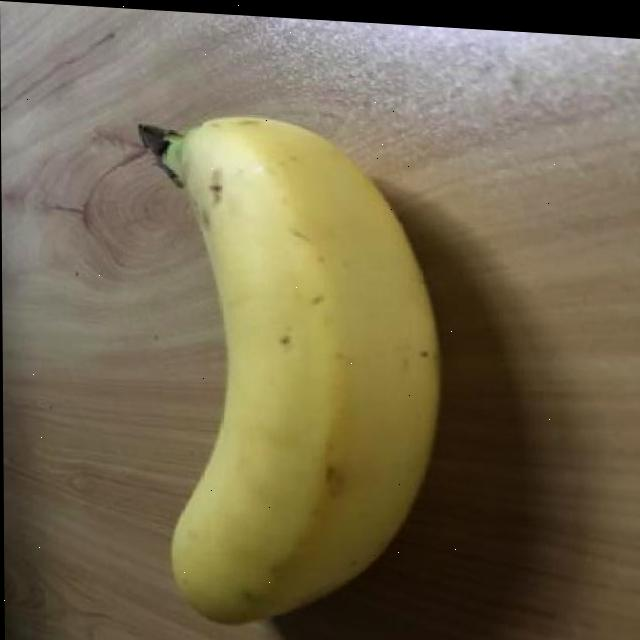banana: (126, 98, 453, 639)
